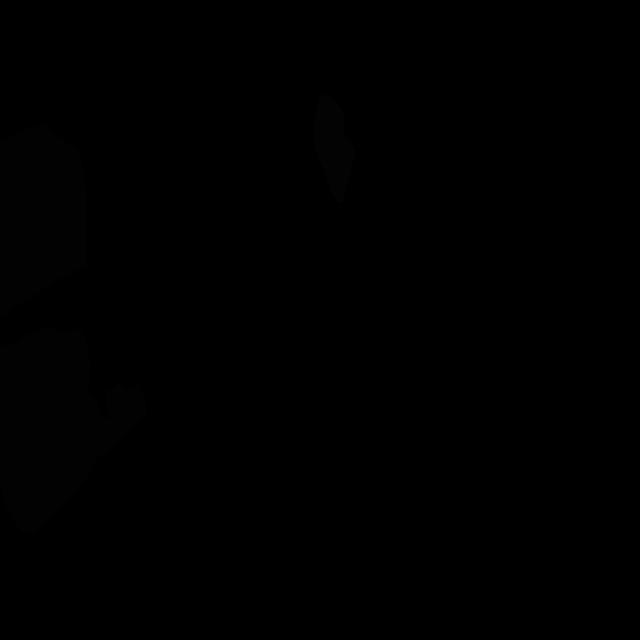cardboard: (0, 326, 148, 535), (0, 124, 87, 319)
metal: (313, 93, 356, 203)
